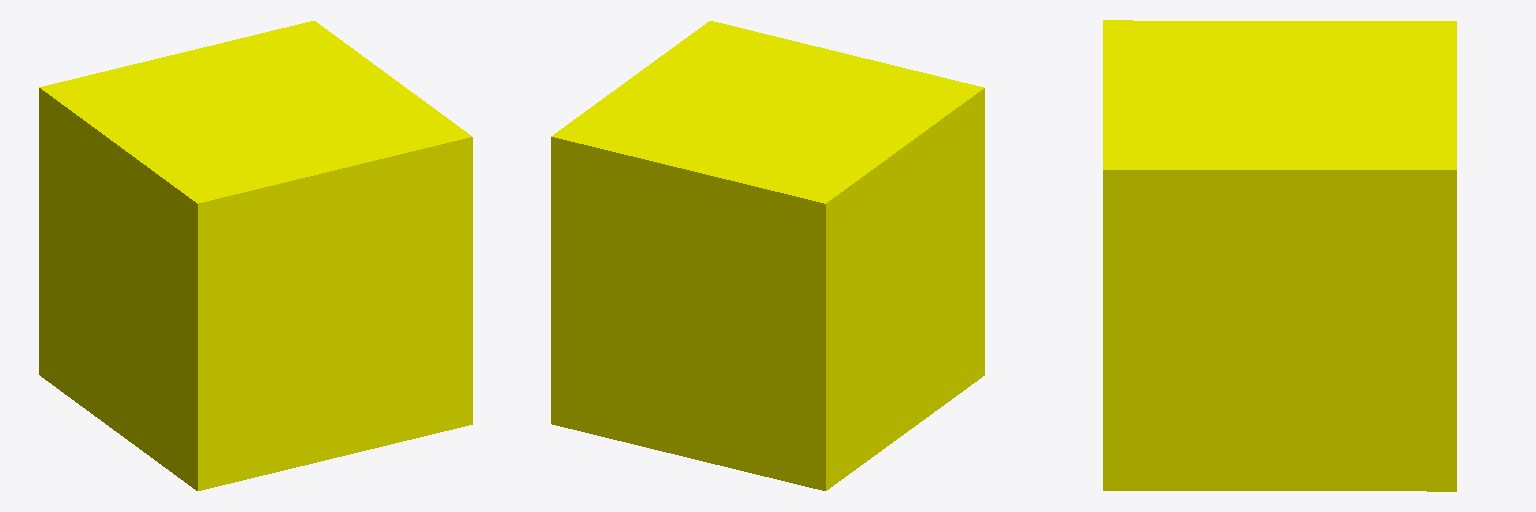
URDF robot description (ubys_car):
<robot name="ubys_car">

  <!-- 
    - take a look into inertia_calculations.txt file
    Inertia Values https://github.com/RobotnikAutomation/rb1_base_common/issues/1
-   Get the inertia tensor 
-   Scale 
-   Divide by the volume
-   Divide by scale*2 (scale -sqaurred)
-   multiply with  mass you wantto give
Thats why we use xacros

 -->

    <link name="base_footprint"/>
    <link name="base">
      <inertial>
        <mass value="2" />
        <origin xyz="0 0 0.1" rpy="0 0 0" />
        <inertia ixx="0.00355" iyy="0.01265" izz="0.013832" ixy="0.0" ixz="0.0" iyz="0.0" />
      </inertial>

      <visual>
        <geometry>
            <mesh filename="package://test_bot/meshes/base_link.stl"/>
        </geometry>
        <material name="gray">
          <color rgba=".2 .2 .2 1" />
        </material>
      </visual>
  
      <collision>
        <geometry>
          <mesh filename="package://test_bot/meshes/base_link.stl"/>
      </geometry>
        <contact_coefficients mu="1" mu2="1" kp="1e+13.0" kd="1.0"/>
      </collision>


    </link>
   <joint name="base_joint" type="fixed">
      <parent link="base_footprint"/>
      <child link="base"/>
      <origin rpy="0 0 0" xyz="0 0 0"/>
    </joint>


 <link name="wheel_right">
    <inertial>
      <mass value="0.75"/>
      <inertia ixx="0.001444223" iyy="0.00280875" izz="0.001444223" ixy="0.0" ixz="0.0" iyz="0.0"/>
      <origin/>
    </inertial>
  
      <visual>
        
        <geometry>
            <mesh filename="package://test_bot/meshes/wheel_r.stl"/>
        </geometry>

        <material name="white">
          <color rgba="1 1 1 1"/>
        </material>
      </visual>
  
      <collision>
        <geometry>
            <mesh filename="package://test_bot/meshes/wheel_r.stl"/>
        </geometry>
        <contact_coefficients mu="0" kp="1000.0" kd="1.0"/>
      </collision>

    </link>
  
    <joint name="wheel_right_joint" type="continuous">
      <origin xyz="0.09 0.085 0.04  " rpy="0 0.0 0.0"/>
      <parent link="base"/>
      <child link="wheel_right"/>
      <axis xyz="0.0 -1.0 0"/>
    </joint>
  
    <link name="wheel_left">
      <inertial>
        <mass value="0.75"/>
        <inertia ixx="0.001444223" iyy="0.00280875" izz="0.001444223" ixy="0.0" ixz="0.0" iyz="0.0" />
        <origin/>
      </inertial>
  
      <visual>
        
        <geometry>
            <mesh filename="package://test_bot/meshes/wheel_l.stl"/>
        </geometry>
        
        <material name="white">
          <color rgba="1 1 1 1"/>
        </material>
      </visual>
  
      <collision>
        <geometry>
            <mesh filename="package://test_bot/meshes/wheel_l.stl"/>
        </geometry>
        <contact_coefficients mu="0" kp="1000.0" kd="1.0"/>
      </collision>
    </link>
  
    <joint name="wheel_left_joint" type="continuous">
      <origin xyz="0.09 -0.1 0.04" rpy="0 0.0 3.14"/>
      <parent link="base"/>
      <child link="wheel_left"/>
      <axis xyz="0.0 1 0"/>
  
    </joint>
  
  
    <link name="caster">

      <inertial>
        <mass value="0.75"/>
        <inertia ixx="0.0001295" iyy="0.0001295" izz="0.000199322" ixy="0.0" ixz="0.0" iyz="0.0" />
        <origin/>
      </inertial>
  
      <visual>
        <geometry>
          <mesh filename="package://test_bot/meshes/front_caster.stl"/>
      </geometry>
        <material name="black" />
      </visual>
  
      <collision>
        <geometry>
          <mesh filename="package://test_bot/meshes/front_caster.stl"/>
      </geometry>
        <contact_coefficients mu="0" kp="1000.0" kd="1.0"/>
      </collision>
    </link>
  
    <joint name="caster_joint" type="continuous">
      <origin xyz="-0.14 -0.007 -0.03" rpy="0.0 0.0 0.0"/>
      <axis xyz="0 0 1" />
      <parent link="base"/>
      <child link="caster"/>
    </joint>  


  <link name="camera_link">
    <visual>
        <geometry>
            <box size="0.02 0.02 0.02"/>
        </geometry>
        <material name="red">
          <color rgba="1 1 0 1" />
        </material>
      </visual>
  </link>

  <joint name="camera_joint" type="fixed">
    <origin xyz="-0.16 0.0 0.065" rpy="0 0.0 3.14"/>
    <parent link="base"/>
    <child link="camera_link"/>
    <axis xyz="0.0 0.0 1.0"/>
  
</joint>


    <gazebo reference="camera_link">
        <sensor type="camera" name="Botcamera">
          <update_rate>30.0</update_rate>
          <camera name="head">
            <horizontal_fov>1.3962634</horizontal_fov>
            <image>
              <width>800</width>
              <height>800</height>
              <format>R8G8B8</format>
            </image>
            <clip>
              <near>0.02</near>
              <far>300</far>
            </clip>
            <noise>
              <type>gaussian</type>
              <mean>0.0</mean>
              <stddev>0.007</stddev>
            </noise>
          </camera>
          <plugin name="camera_controller" filename="libgazebo_ros_camera.so">
            <alwaysOn>true</alwaysOn>
            <updateRate>0.0</updateRate>
            <cameraName>/Botcamera</cameraName>
            <imageTopicName>image_raw</imageTopicName>
            <cameraInfoTopicName>camera_info</cameraInfoTopicName>
            <frameName>camera_link</frameName>
            <hackBaseline>0.07</hackBaseline>
          </plugin>
        </sensor>
        <material>Gazebo/Blue</material>
      </gazebo>




  

    <gazebo>
      <plugin filename="libgazebo_ros_diff_drive.so" name="gazebo_base_controller">
        <odometry_frame>odom</odometry_frame>
        <commandTopic>cmd_vel</commandTopic>
        <publish_odom>true</publish_odom>
        <publish_odom_tf>true</publish_odom_tf>
        <update_rate>15.0</update_rate>
        <left_joint>wheel_left_joint</left_joint>
        <right_joint>wheel_right_joint</right_joint>
        <wheel_separation>0.8</wheel_separation>
        <wheel_diameter>0.3</wheel_diameter>
        <max_wheel_acceleration>0.7</max_wheel_acceleration>
        <robotBaseFrame>base</robotBaseFrame>
  
      </plugin>
    </gazebo>


  <gazebo reference="base">
      <material>Gazebo/Black</material>
    </gazebo>
    <gazebo reference="caster">
      <material>Gazebo/White</material>
    </gazebo>
    
    <gazebo reference="wheel_right">
      <material>Gazebo/Orange</material>
    </gazebo>
    <gazebo reference="wheel_left">
      <material>Gazebo/Orange</material>
    </gazebo>  







  </robot>
  

--- What the picture shows (computed from the rendered views, not written in the file) ---
The picture shows the robot from 3 angles, left to right: view 1: azimuth 30°, elevation 25°; view 2: azimuth 150°, elevation 25°; view 3: azimuth 270°, elevation 25°; orthographic projection.
Robot: ubys_car — 6 links, 5 joints (3 continuous, 2 fixed); root link base_footprint; default pose: all joints at 0.
Links seen in each view (by area): view 1: camera_link; view 2: camera_link; view 3: camera_link.
Boxes of the visible links, <box> form: camera_link: <box>39,21,472,490</box>; camera_link: <box>551,21,984,490</box>; camera_link: <box>1103,20,1456,491</box>.
Bounding box of the posed robot: 0.02 × 0.02 × 0.02 m (x, y, z).
Meshes: 4 distinct files referenced, 0 mesh visuals loaded (none loaded); not drawn: 4 (reference not matched to a file when rendering).